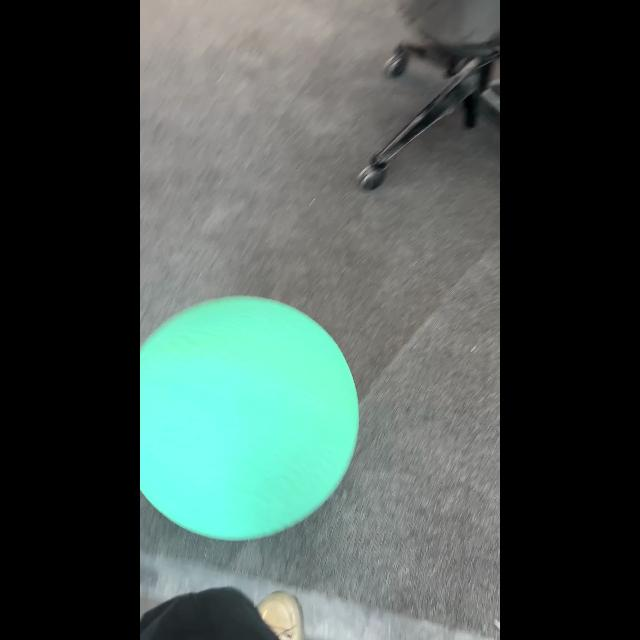ALGAE: (140, 294, 360, 542)
